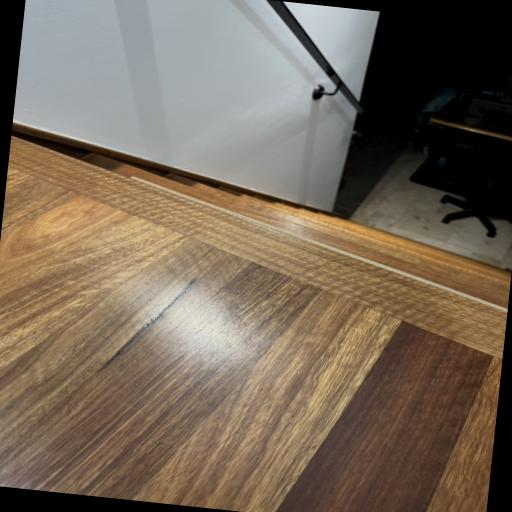stairs: (80, 153, 511, 307)
